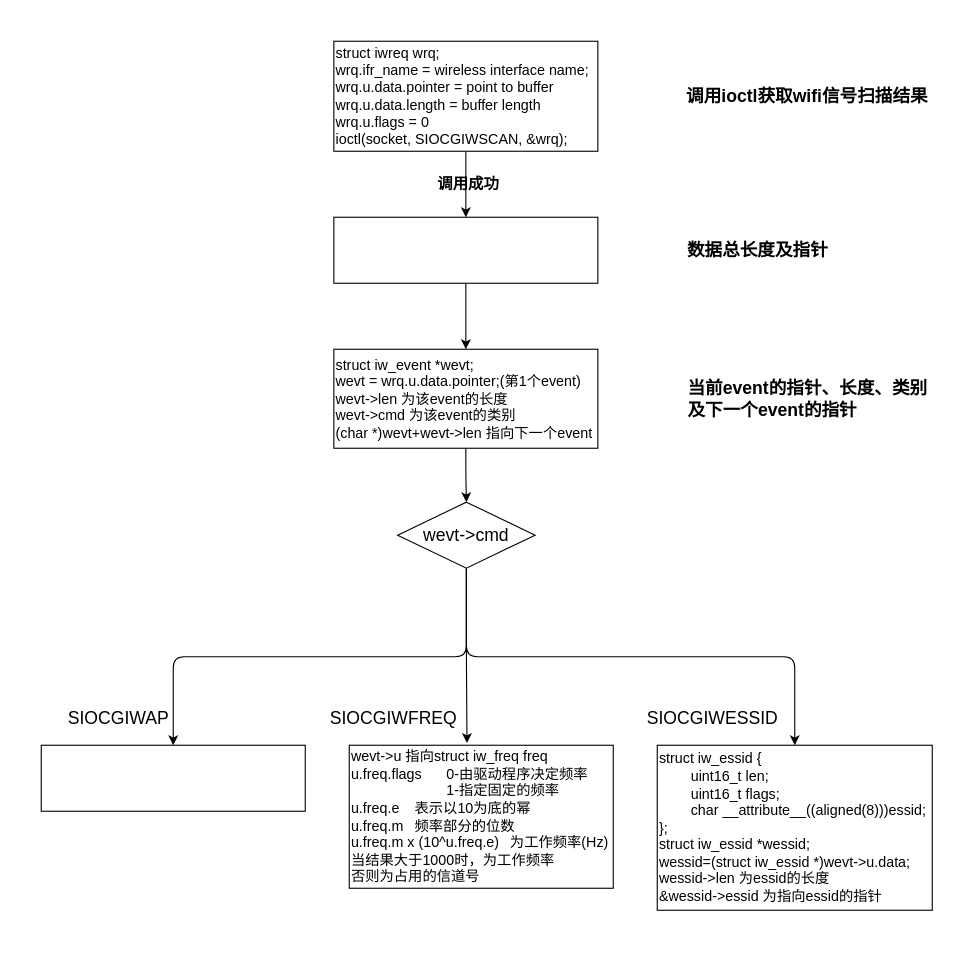
This 972x961 diagram has some shape labels left out. The centre of each missing label's shape, as x and y in pixels:
"wevt->u 指向struct sockaddr ap_addr u.ap_addr.sa_data 前6个字节为MAC地址" belongs at (172,777).
"wrq.u.data.pointer 指向返回的数据 wrq.u.data.length 返回数据的长度 wrq.u.data.flags 1" belongs at (465,249).
